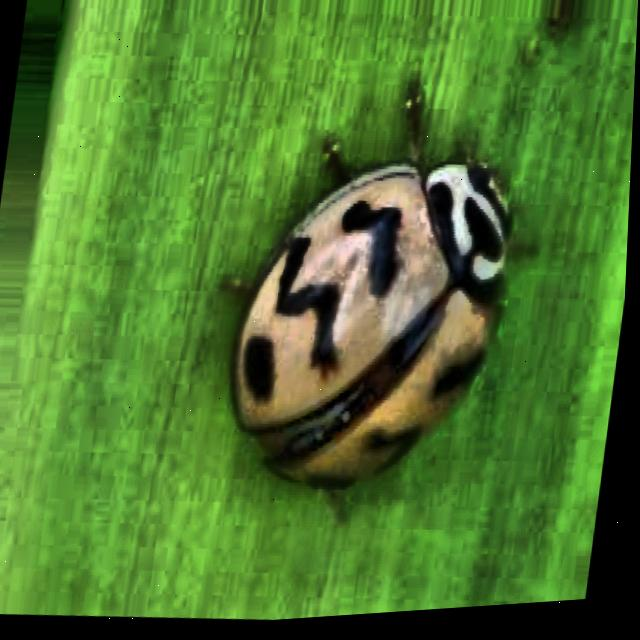Asian-Lady-beetle: (161, 47, 592, 621)
